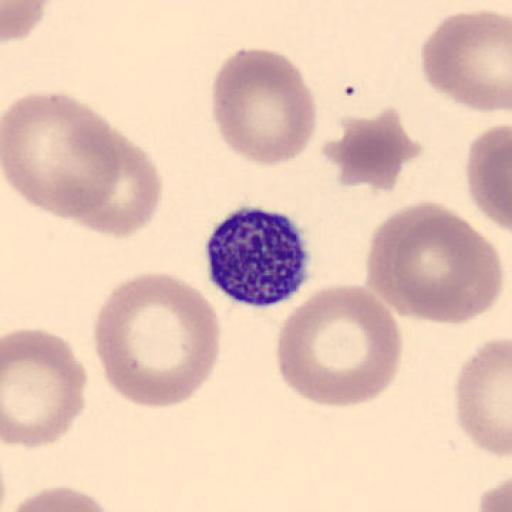Platelet: (204, 204, 315, 309)
RBC: (91, 271, 220, 410), (366, 200, 504, 326), (2, 89, 122, 227), (276, 282, 404, 409), (210, 46, 318, 168), (2, 326, 89, 450), (419, 7, 512, 113), (72, 131, 163, 239), (324, 105, 422, 193), (453, 336, 512, 459), (466, 123, 512, 234), (1, 485, 120, 512), (2, 0, 52, 44), (476, 475, 512, 512)
